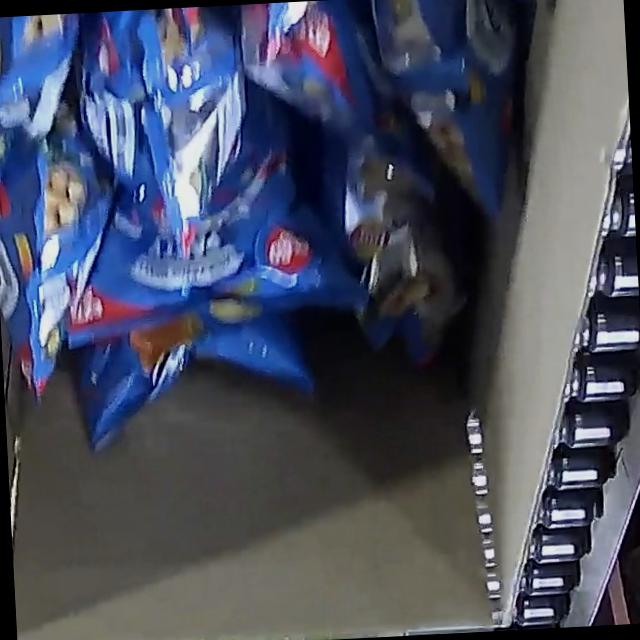paprika: (0, 0, 586, 456)
